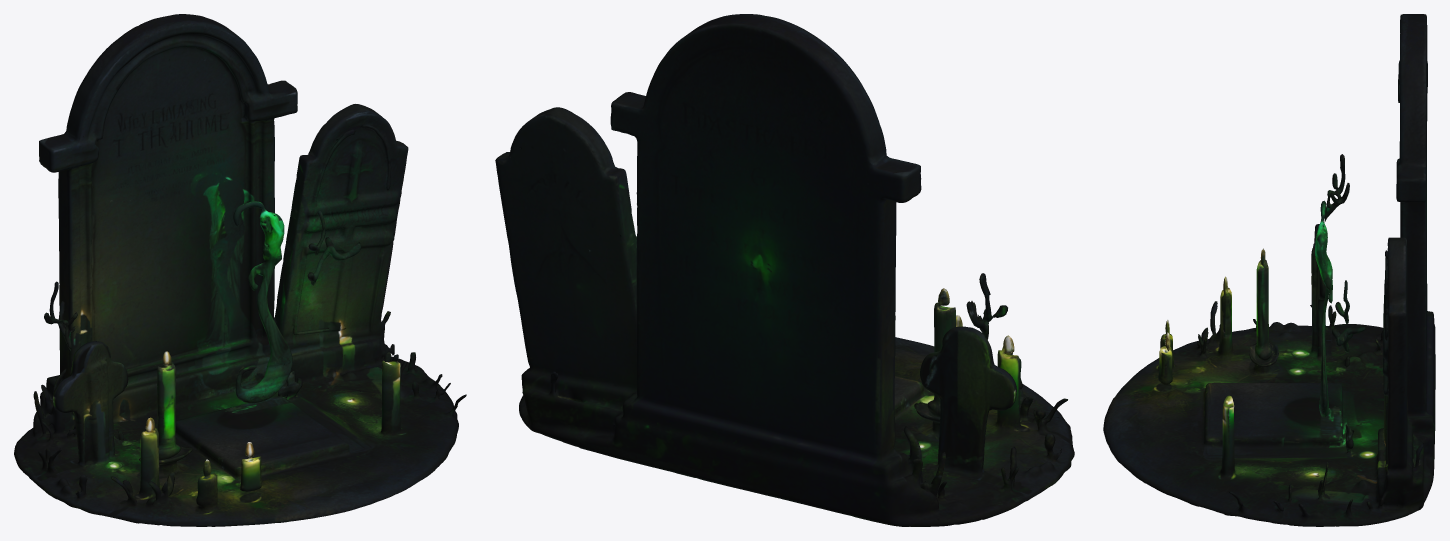
Rendered from spooky_and_magical_sc_0613162034_.fbx.
3 views of the same model, side by side, from view 1: azimuth 30°, elevation 25°; view 2: azimuth 150°, elevation 25°; view 3: azimuth 270°, elevation 25° (orthographic). The views are drawn at different scales.
Visible parts, largest first — view 1: Mesh1_Mesh1.025; view 2: Mesh1_Mesh1.025; view 3: Mesh1_Mesh1.025.
Part boxes in pixels (bbox=[...]): Mesh1_Mesh1.025: bbox=[14, 14, 466, 526]; Mesh1_Mesh1.025: bbox=[495, 14, 1074, 526]; Mesh1_Mesh1.025: bbox=[1103, 14, 1435, 526].
Size of the model in its own units: 197 by 179 by 136.
1 material, 1 textured.
